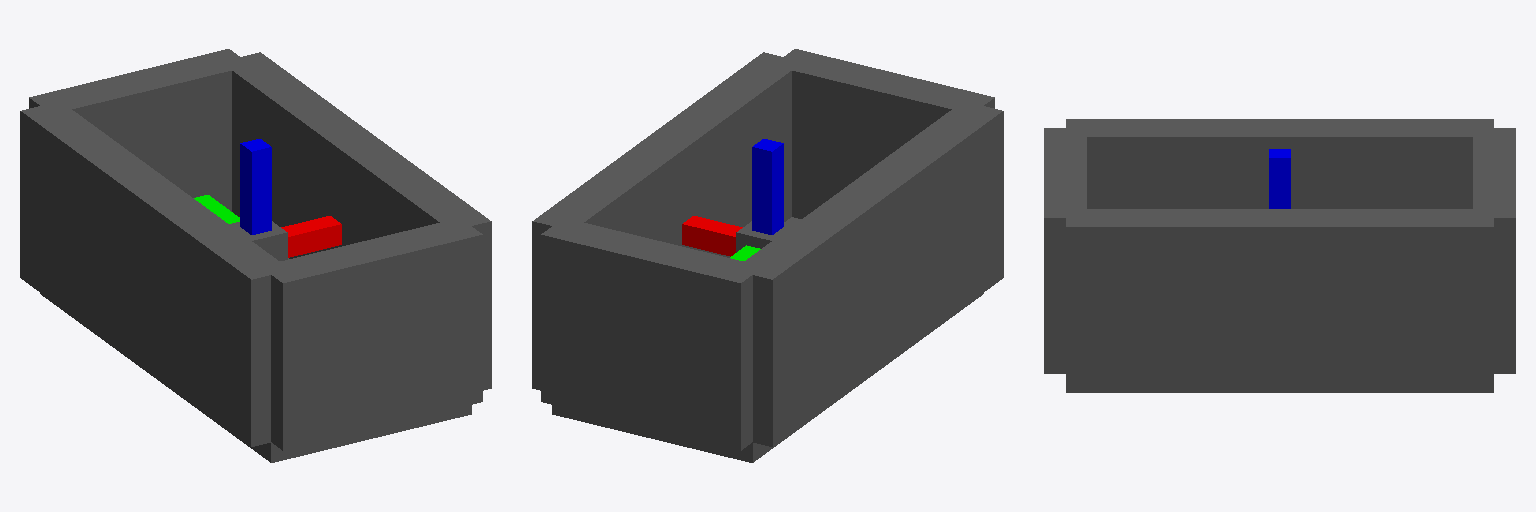
URDF robot description (work):
<?xml version="1.0" ?>

<robot name="work">

    <material name="marker_red">
        <color rgba="1.0 0.0 0.0 1.0"/>
    </material>
    <material name="marker_green">
        <color rgba="0.0 1.0 0.0 1.0"/>
    </material>
    <material name="marker_blue">
        <color rgba="0.0 0.0 1.0 1.0"/>
    </material>
    <material name="light_grey">
        <color rgba="0.4 0.4 0.4 0.2"/>
    </material>

    <link name="base_link">
        <inertial>
            <origin xyz="0 0 0" rpy="0 0 0"/>
            <mass value="0.001"/>
            <inertia ixx="0.0" ixy="0" ixz="0"
                iyy="0.0" iyz="0"
                izz="0.0"/>
        </inertial>
    </link>

    <joint name="body_joint" type="fixed">
        <parent link="base_link"/>
        <child  link="work_bottom"/>
        <origin xyz="0.0 0.0 0.0" rpy="0 0 0"/>
    </joint>

    <link name="work_bottom">
        <visual>
            <geometry>
                <box size="0.01 0.02 0.002"/>
            </geometry>
            <origin xyz="0 0 0" rpy="0 0 0"/>
            <material name="light_grey"/>
        </visual>
        <collision>
            <geometry>
                <box size="0.01 0.02 0.002"/>
            </geometry>
            <origin xyz="0 0 0" rpy="0 0 0"/>
        </collision>
        <inertial>
            <origin xyz="0 0 0" rpy="0 0 0"/>
            <mass value="0.005"/>
            <inertia ixx="0.0001" ixy="0" ixz="0"
                iyy="0.0001" iyz="0"
                izz="0.0001"/>
        </inertial>
    </link>

    <link name="work_front">
        <visual>
            <geometry>
                <box size="0.008 0.02 0.002"/>
            </geometry>
            <origin xyz="0 0 0" rpy="0 0 0"/>
            <material name="light_grey"/>
        </visual>
        <collision>
            <geometry>
                <box size="0.008 0.02 0.002"/>
            </geometry>
            <origin xyz="0 0 0" rpy="0 0 0"/>
        </collision>
        <inertial>
            <origin xyz="0 0 0" rpy="0 0 0"/>
            <mass value="0.005"/>
            <inertia ixx="0.0001" ixy="0" ixz="0"
                iyy="0.0001" iyz="0"
                izz="0.0001"/>
        </inertial>
    </link>

    <link name="work_rear">
        <visual>
            <geometry>
                <box size="0.008 0.02 0.002"/>
            </geometry>
            <origin xyz="0 0 0" rpy="0 0 0"/>
            <material name="light_grey"/>
        </visual>
        <collision>
            <geometry>
                <box size="0.008 0.02 0.002"/>
            </geometry>
            <origin xyz="0 0 0" rpy="0 0 0"/>
        </collision>
        <inertial>
            <origin xyz="0 0 0" rpy="0 0 0"/>
            <mass value="0.005"/>
            <inertia ixx="0.0001" ixy="0" ixz="0"
                iyy="0.0001" iyz="0"
                izz="0.0001"/>
        </inertial>
    </link>

    <link name="work_right">
        <visual>
            <geometry>
                <box size="0.008 0.01 0.002"/>
            </geometry>
            <origin xyz="0 0 0" rpy="0 0 0"/>
            <material name="light_grey"/>
        </visual>
        <collision>
            <geometry>
                <box size="0.008 0.01 0.002"/>
            </geometry>
            <origin xyz="0 0 0" rpy="0 0 0"/>
        </collision>
        <inertial>
            <origin xyz="0 0 0" rpy="0 0 0"/>
            <mass value="0.005"/>
            <inertia ixx="0.0001" ixy="0" ixz="0"
                iyy="0.0001" iyz="0"
                izz="0.0001"/>
        </inertial>
    </link>

    <link name="work_left">
        <visual>
            <geometry>
                <box size="0.008 0.01 0.002"/>
            </geometry>
            <origin xyz="0 0 0" rpy="0 0 0"/>
            <material name="light_grey"/>
        </visual>
        <collision>
            <geometry>
                <box size="0.008 0.01 0.002"/>
            </geometry>
            <origin xyz="0 0 0" rpy="0 0 0"/>
        </collision>
        <inertial>
            <origin xyz="0 0 0" rpy="0 0 0"/>
            <mass value="0.005"/>
            <inertia ixx="0.0001" ixy="0" ixz="0"
                iyy="0.0001" iyz="0"
                izz="0.0001"/>
        </inertial>
    </link>

    <link name="dummy_link">
        <inertial>
        <origin xyz="0 0 0" rpy="0 0 0"/>
        <mass value="0.001"/>
        <inertia ixx="0.0" ixy="0" ixz="0"
            iyy="0.0" iyz="0"
            izz="0.0"/>
        </inertial>
    </link>

    <joint name="work_bottom_dummy" type="fixed">
        <parent link="work_bottom"/>
        <child  link="dummy_link"/>
        <origin xyz="0.0 0.0 0.0" rpy="0 0 0"/>
    </joint>
    <joint name="work_bottom_front" type="fixed">
        <parent link="dummy_link"/>
        <child  link="work_front"/>
        <origin xyz="0.005 0.0 0.004" rpy="0.0 -1.5707963267948966 0.0"/>
    </joint>
    <joint name="work_bottom_rear" type="fixed">
        <parent link="dummy_link"/>
        <child  link="work_rear"/>
        <origin xyz="-0.005 0.0 0.004" rpy="0.0 1.5707963267948966 0.0"/>
    </joint>
    <joint name="work_bottom_right" type="fixed">
        <parent link="dummy_link"/>
        <child  link="work_right"/>
        <origin xyz="0.0 -0.01 0.004" rpy="-1.5707963267948966 1.5707963267948966 0.0"/>
    </joint>
    <joint name="work_bottom_left" type="fixed">
        <parent link="dummy_link"/>
        <child  link="work_left"/>
        <origin xyz="0.0 0.01 0.004" rpy="1.5707963267948966 1.5707963267948966 0.0"/>
    </joint>

    <link name="marker_origin">
        <visual>
            <geometry>
                <box size="0.002 0.002 0.002"/>
            </geometry>
            <origin xyz="0 0 0" rpy="0 0 0"/>
            <material name="light_grey"/>
        </visual>
        <inertial>
            <origin xyz="0 0 0" rpy="0 0 0"/>
            <mass value="0.005"/>
            <inertia ixx="0.0001" ixy="0" ixz="0"
                iyy="0.0001" iyz="0"
                izz="0.0001"/>
        </inertial>
    </link>

    <link name="marker_x">
        <visual>
            <geometry>
                <box size="0.005 0.001 0.001"/>
            </geometry>
            <origin xyz="0 0 0" rpy="0 0 0"/>
            <material name="marker_red"/>
        </visual>
        <inertial>
            <origin xyz="0 0 0" rpy="0 0 0"/>
            <mass value="0.005"/>
            <inertia ixx="0.0001" ixy="0" ixz="0"
                iyy="0.0001" iyz="0"
                izz="0.0001"/>
        </inertial>
    </link>

    <link name="marker_y">
        <visual>
            <geometry>
                <box size="0.001 0.005 0.001"/>
            </geometry>
            <origin xyz="0 0 0" rpy="0 0 0"/>
            <material name="marker_green"/>
        </visual>
        <inertial>
            <origin xyz="0 0 0" rpy="0 0 0"/>
            <mass value="0.005"/>
            <inertia ixx="0.0001" ixy="0" ixz="0"
                iyy="0.0001" iyz="0"
                izz="0.0001"/>
        </inertial>
    </link>

    <link name="marker_z">
        <visual>
            <geometry>
                <box size="0.001 0.001 0.005"/>
            </geometry>
            <origin xyz="0 0 0" rpy="0 0 0"/>
            <material name="marker_blue"/>
        </visual>
        <inertial>
            <origin xyz="0 0 0" rpy="0 0 0"/>
            <mass value="0.005"/>
            <inertia ixx="0.0001" ixy="0" ixz="0"
                iyy="0.0001" iyz="0"
                izz="0.0001"/>
        </inertial>
    </link>

    <joint name="work_origin" type="fixed">
        <parent link="work_bottom"/>
        <child  link="marker_origin"/>
        <origin xyz="0.0 0.0 0.004" rpy="0 0 0"/>
    </joint>
    <joint name="marker_origin_x" type="fixed">
        <parent link="marker_origin"/>
        <child  link="marker_x"/>
        <origin xyz="0.0025 0.0 0.0" rpy="0 0 0"/>
    </joint>
    <joint name="marker_origin_y" type="fixed">
        <parent link="marker_origin"/>
        <child  link="marker_y"/>
        <origin xyz="0.0 0.0025 0.0" rpy="0 0 0"/>
    </joint>
    <joint name="marker_origin_z" type="fixed">
        <parent link="marker_origin"/>
        <child  link="marker_z"/>
        <origin xyz="0.0 0.0 0.0025" rpy="0 0 0"/>
    </joint>

</robot>

--- Facts derived from the render (not from the file) ---
The picture shows the robot from 3 angles, left to right: view 1: azimuth 30°, elevation 25°; view 2: azimuth 150°, elevation 25°; view 3: azimuth 270°, elevation 25°; orthographic projection.
Model work with 11 links and 10 joints (10 fixed), rooted at base_link, posed all joints at 0.
Links seen in each view (by area): view 1: work_rear, work_right, work_front, work_left, marker_z, work_bottom, marker_x, marker_origin; view 2: work_rear, work_left, work_front, work_right, marker_z, work_bottom, marker_x, marker_origin; view 3: work_front, work_rear, work_right, work_left, work_bottom, marker_z.
Link boxes in pixels (left/top/right/bottom): work_rear: left=20, top=101, right=289, bottom=446; work_right: left=260, top=218, right=482, bottom=450; work_front: left=222, top=52, right=491, bottom=390; work_left: left=29, top=49, right=249, bottom=211; marker_z: left=240, top=139, right=271, bottom=234; work_bottom: left=40, top=258, right=471, bottom=462; marker_x: left=281, top=216, right=341, bottom=257; marker_origin: left=229, top=221, right=287, bottom=260; work_rear: left=733, top=101, right=1003, bottom=446; work_left: left=541, top=218, right=761, bottom=450; work_front: left=532, top=52, right=802, bottom=390; work_right: left=780, top=49, right=994, bottom=218; marker_z: left=752, top=139, right=783, bottom=234; work_bottom: left=552, top=217, right=983, bottom=462; marker_x: left=682, top=216, right=742, bottom=256; marker_origin: left=736, top=221, right=794, bottom=252; work_front: left=1066, top=209, right=1493, bottom=382; work_rear: left=1066, top=119, right=1493, bottom=208; work_right: left=1044, top=128, right=1086, bottom=373; work_left: left=1473, top=128, right=1515, bottom=373; work_bottom: left=1066, top=383, right=1493, bottom=392; marker_z: left=1269, top=149, right=1290, bottom=208.
Bounding box of the posed robot: 0.012 × 0.022 × 0.01 m (x, y, z).
Geometry: primitives only (box / cylinder / sphere), no mesh files.